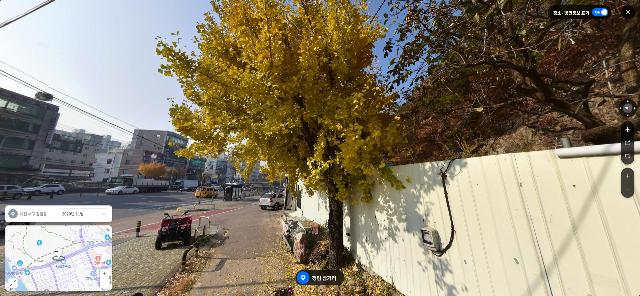ginkgo: (156, 0, 412, 270)
other: (371, 0, 640, 165), (138, 162, 167, 179)
